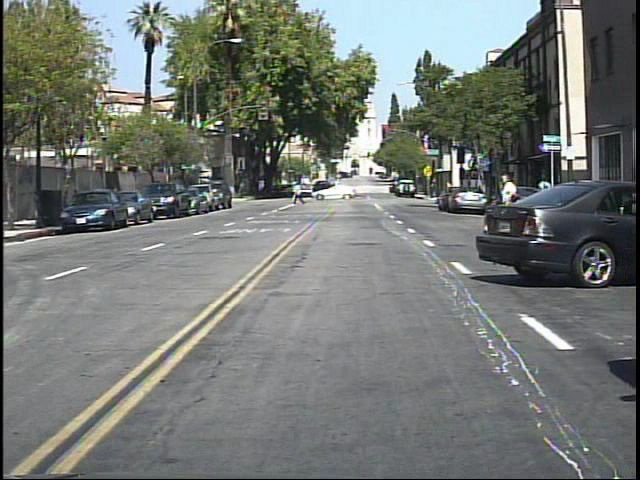person: (493, 166, 526, 245), (537, 169, 557, 217), (292, 176, 310, 210)
